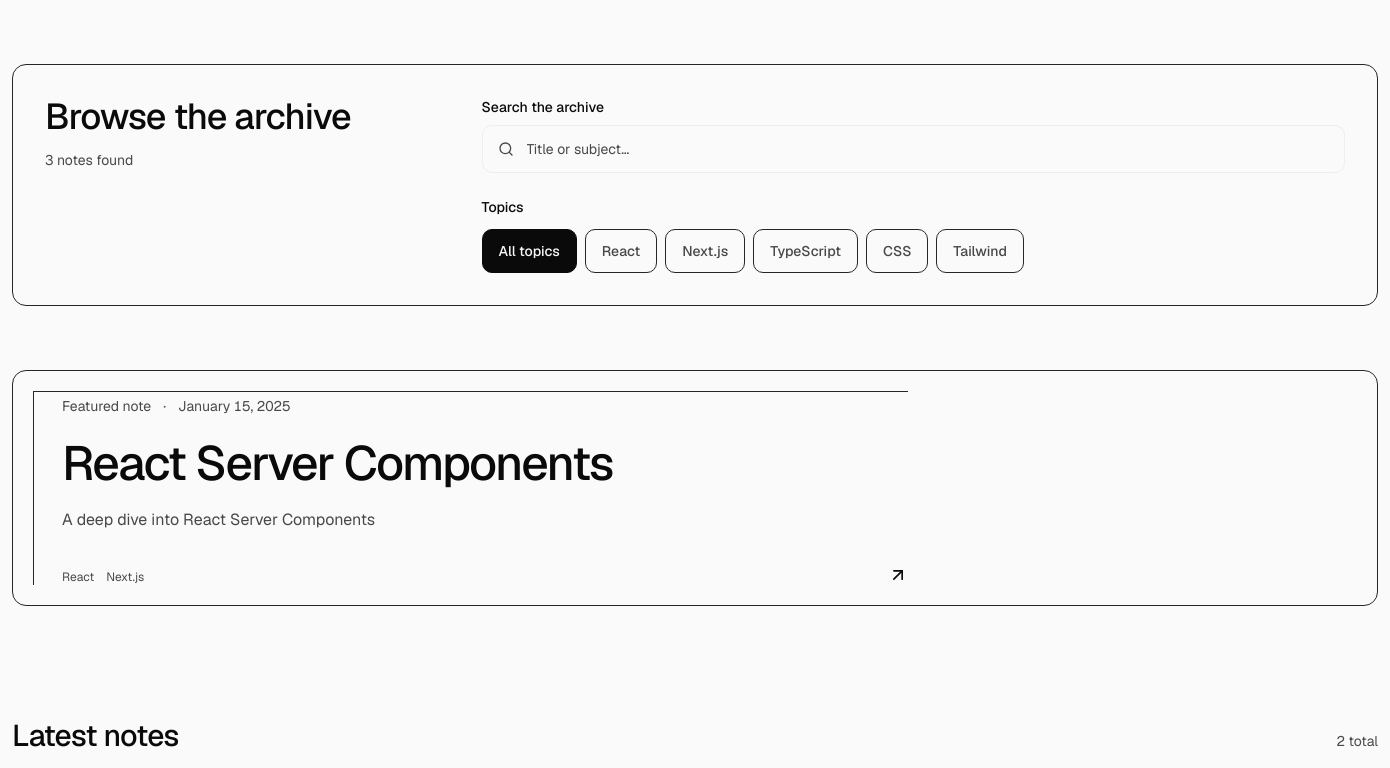
BlogList › should show empty state when no posts match
The image size is (1390, 768).
Type "NonExistentPost" into the search field labelled "Search the archive" at (913, 149), box [482,125,1345,173]
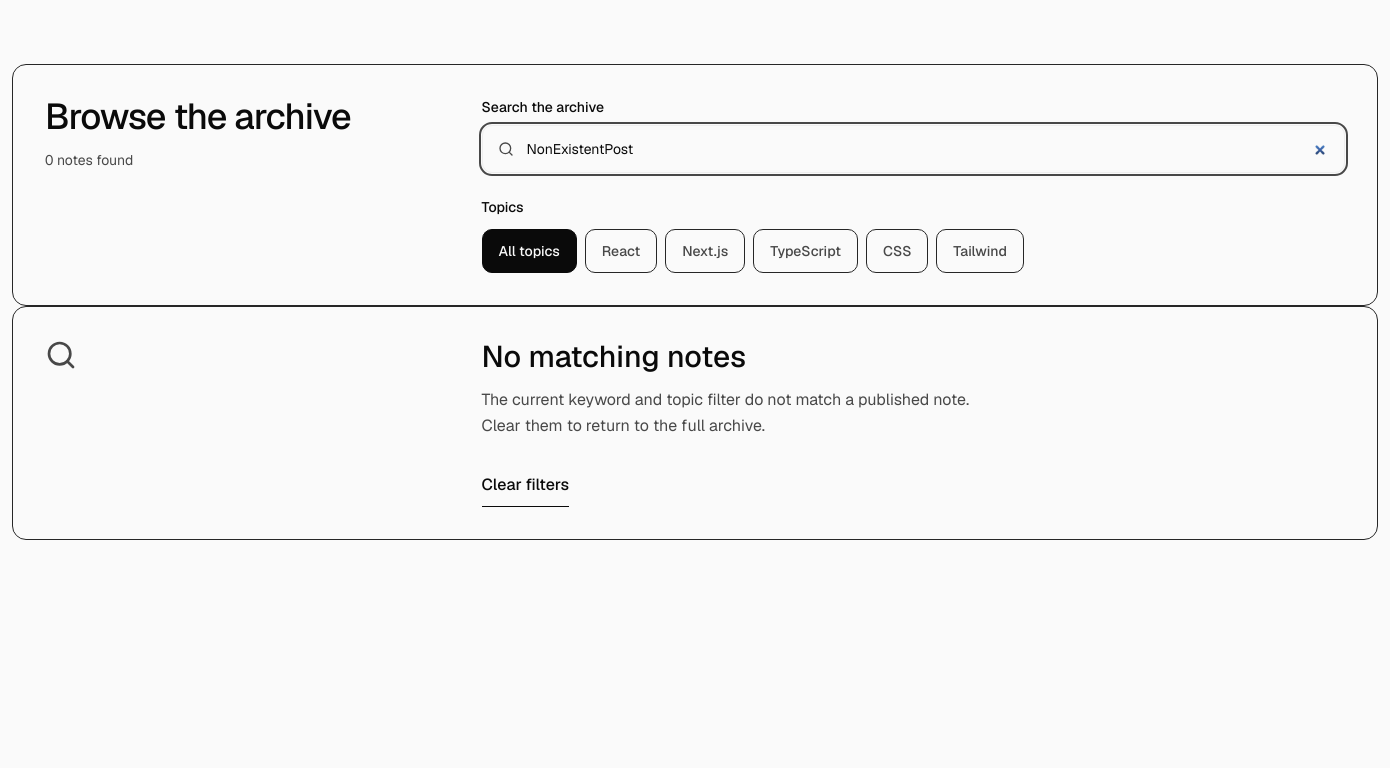
Result: the heading "No matching notes" is shown at [482,337,746,376]
Result: the button "Clear filters" is shown at [482,463,569,507]
